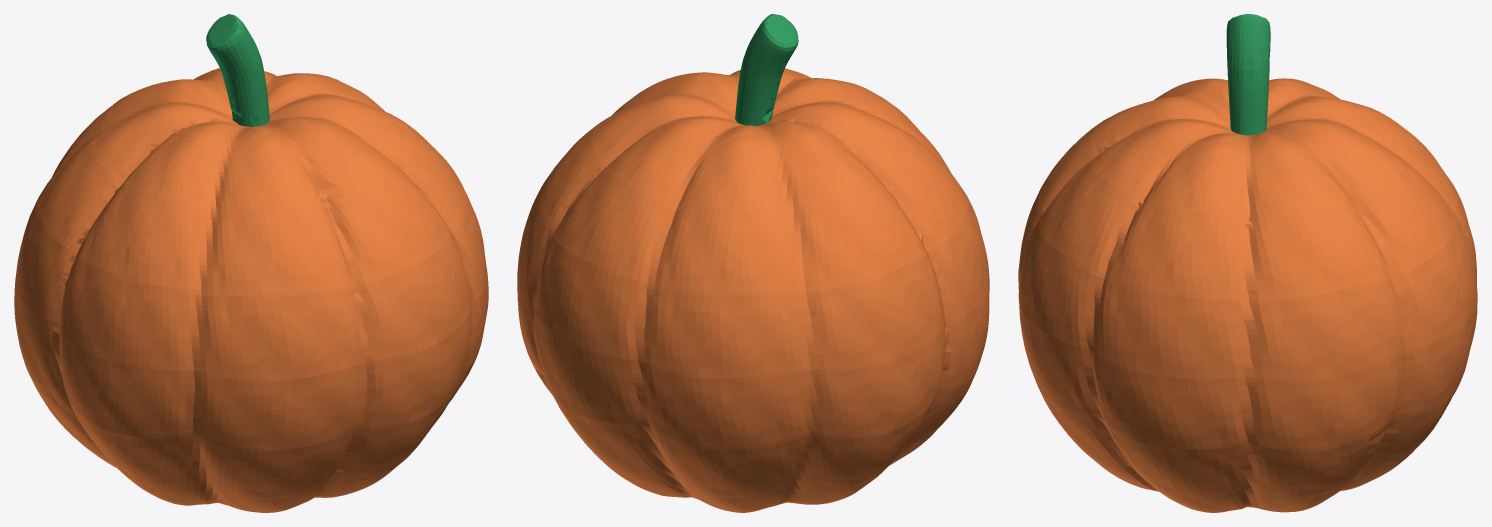
File: pumpkin.glb
3 views of the same model, side by side, from view 1: azimuth 30°, elevation 25°; view 2: azimuth 150°, elevation 25°; view 3: azimuth 270°, elevation 25° (orthographic).
Visible parts, largest first — view 1: quad.001; view 2: quad.001; view 3: quad.001.
Part boxes in pixels (left/top/right/bottom): quad.001: left=14, top=14, right=488, bottom=512; quad.001: left=517, top=14, right=989, bottom=512; quad.001: left=1018, top=14, right=1477, bottom=512.
Bounding box in the file's own units: 61.49 × 66.62 × 62.38.
